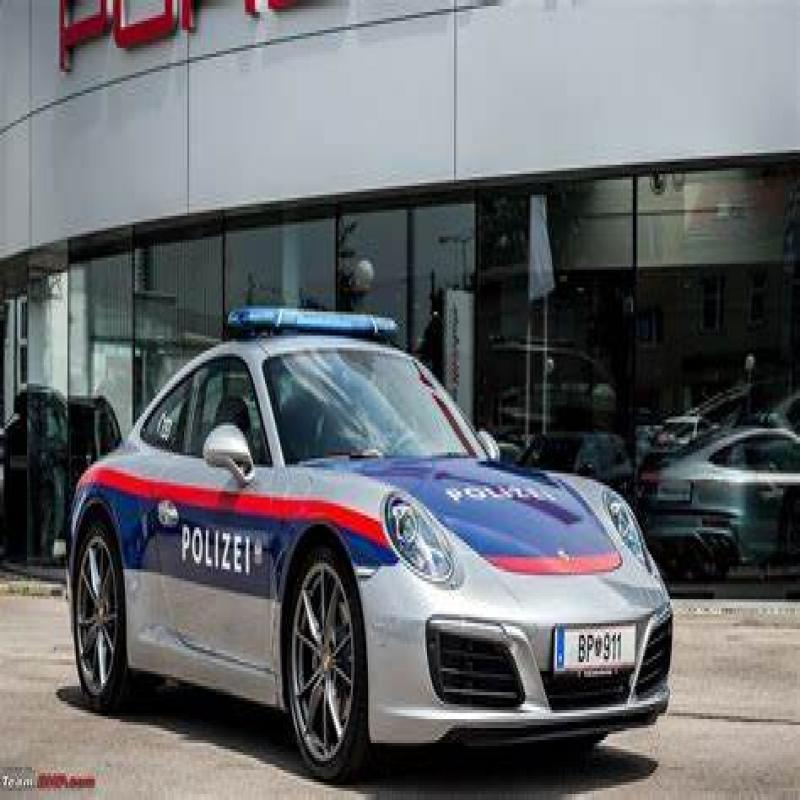AmbulanceSiren: (231, 280, 406, 339)
